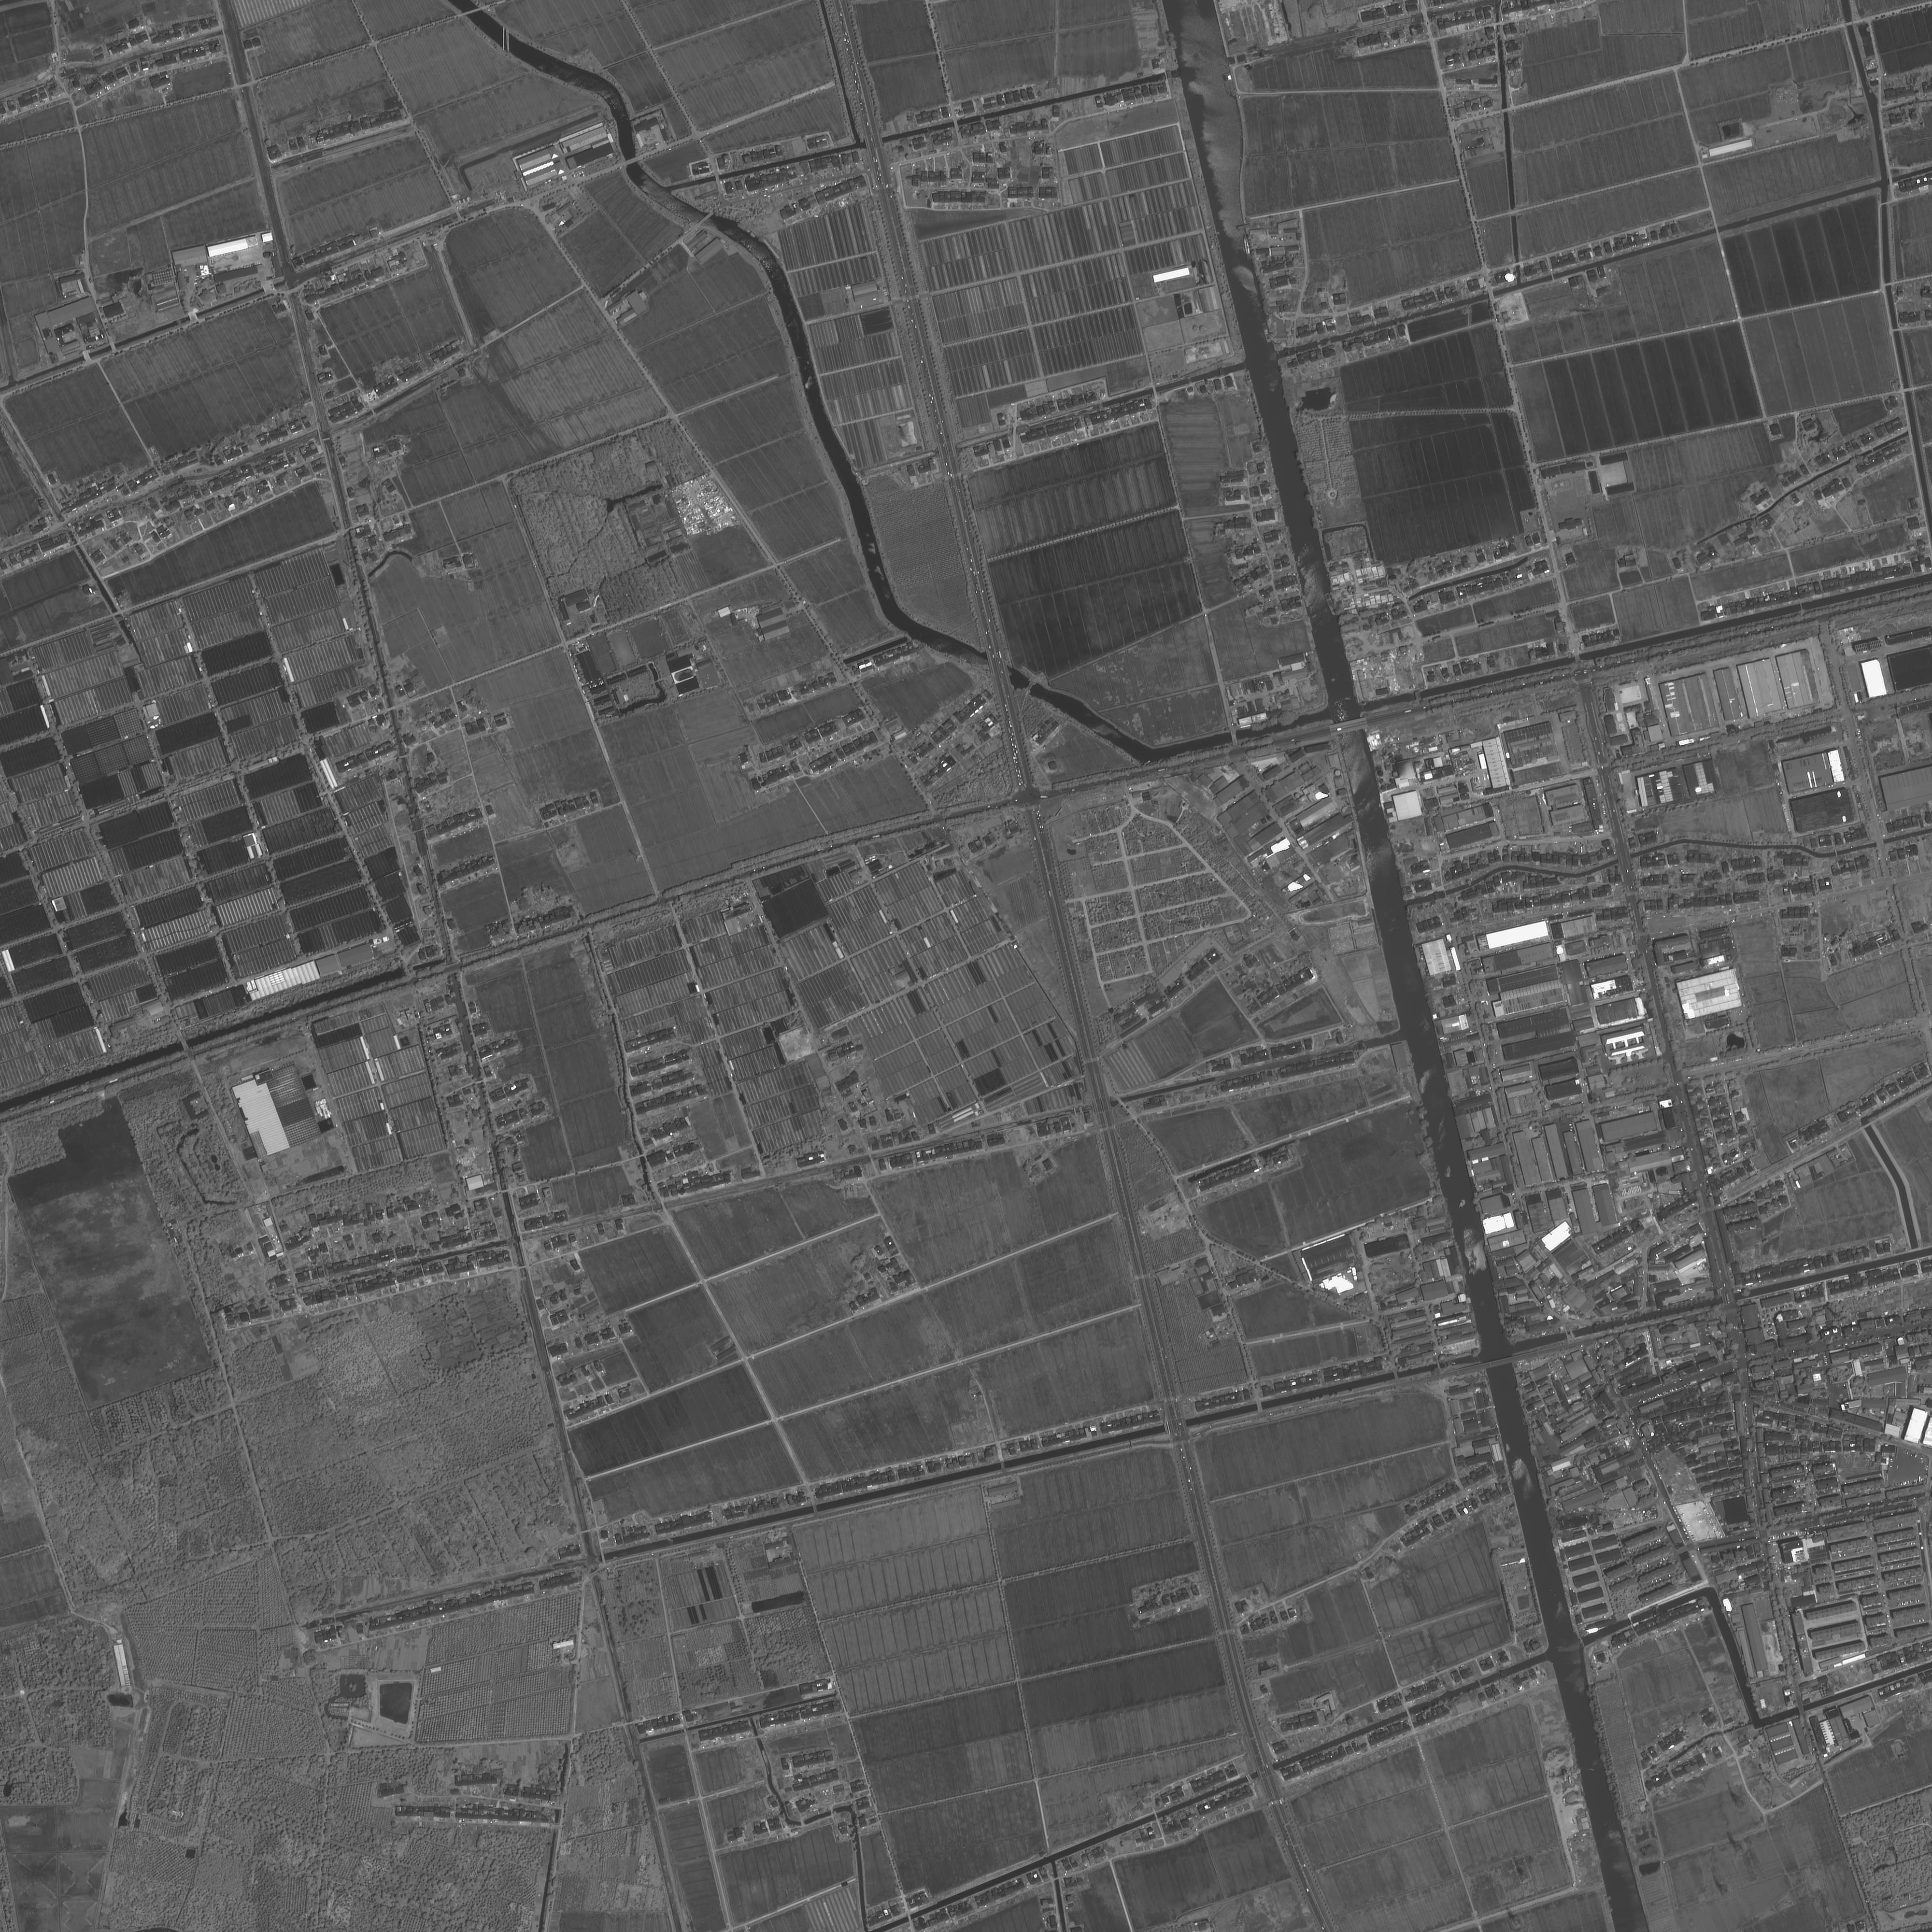ship: (1226, 71, 1237, 97), (1325, 594, 1338, 616), (1221, 73, 1231, 96), (1242, 235, 1251, 260), (1261, 324, 1272, 343)
